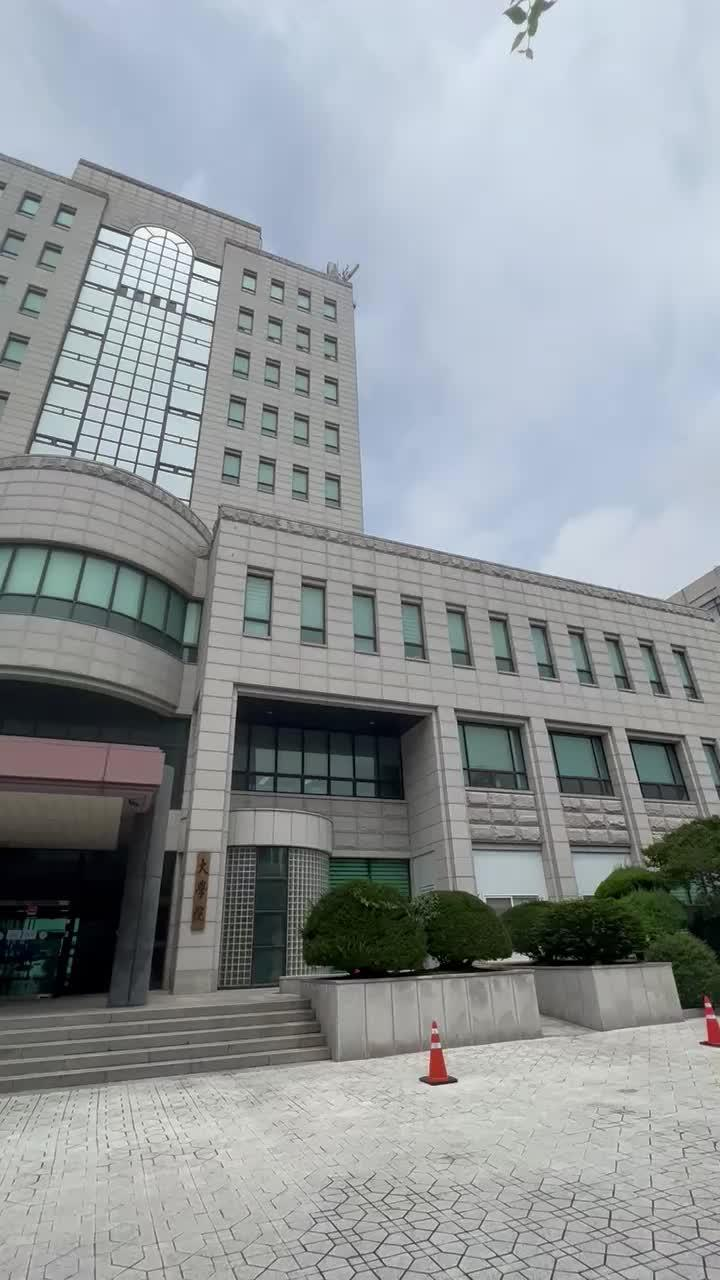building: (20, 170, 390, 810)
